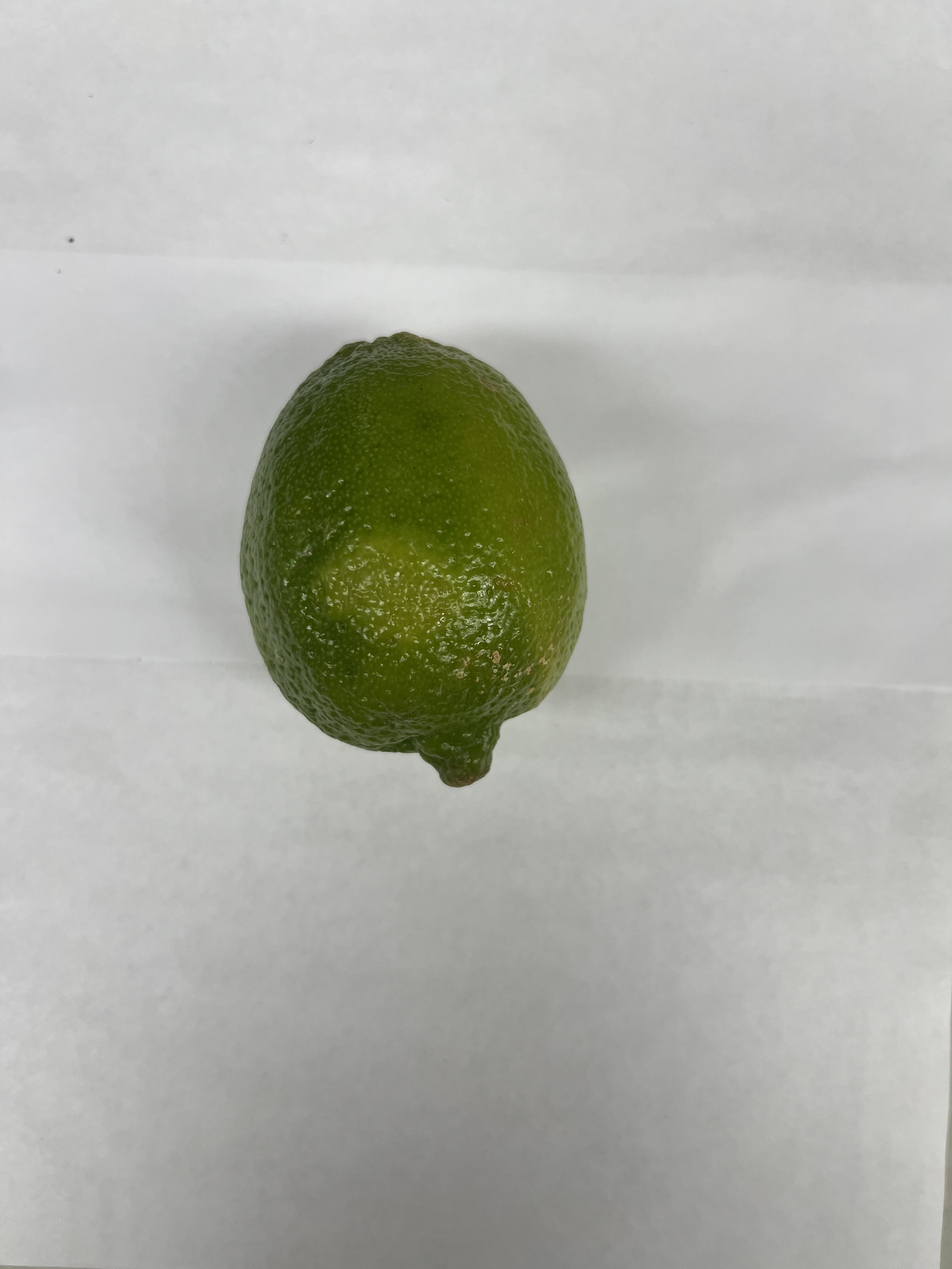produce: (234, 326, 593, 794)
